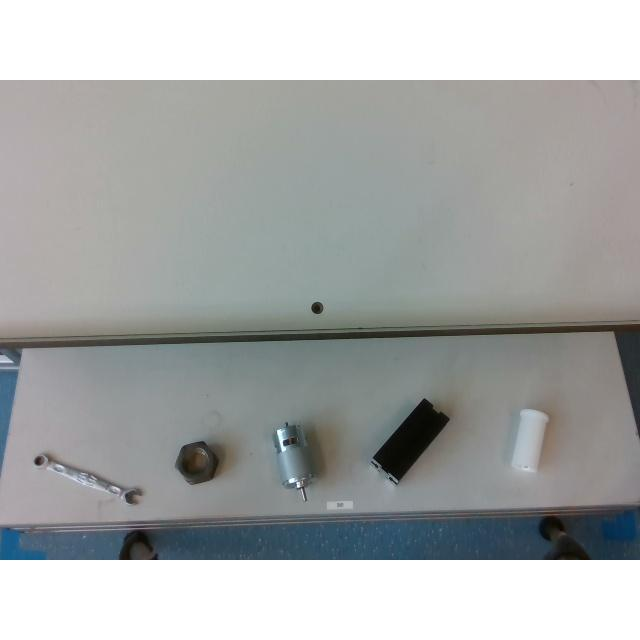M30: (175, 441, 217, 484)
Motor2: (276, 423, 312, 501)
S40_40_B: (370, 398, 448, 484)
Spacer: (511, 408, 549, 472)
Wrench: (34, 452, 142, 504)
